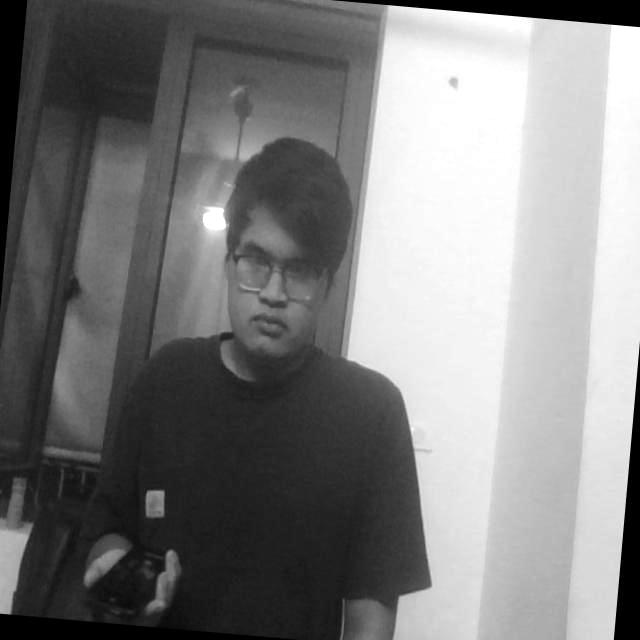phone: (74, 522, 179, 628)
